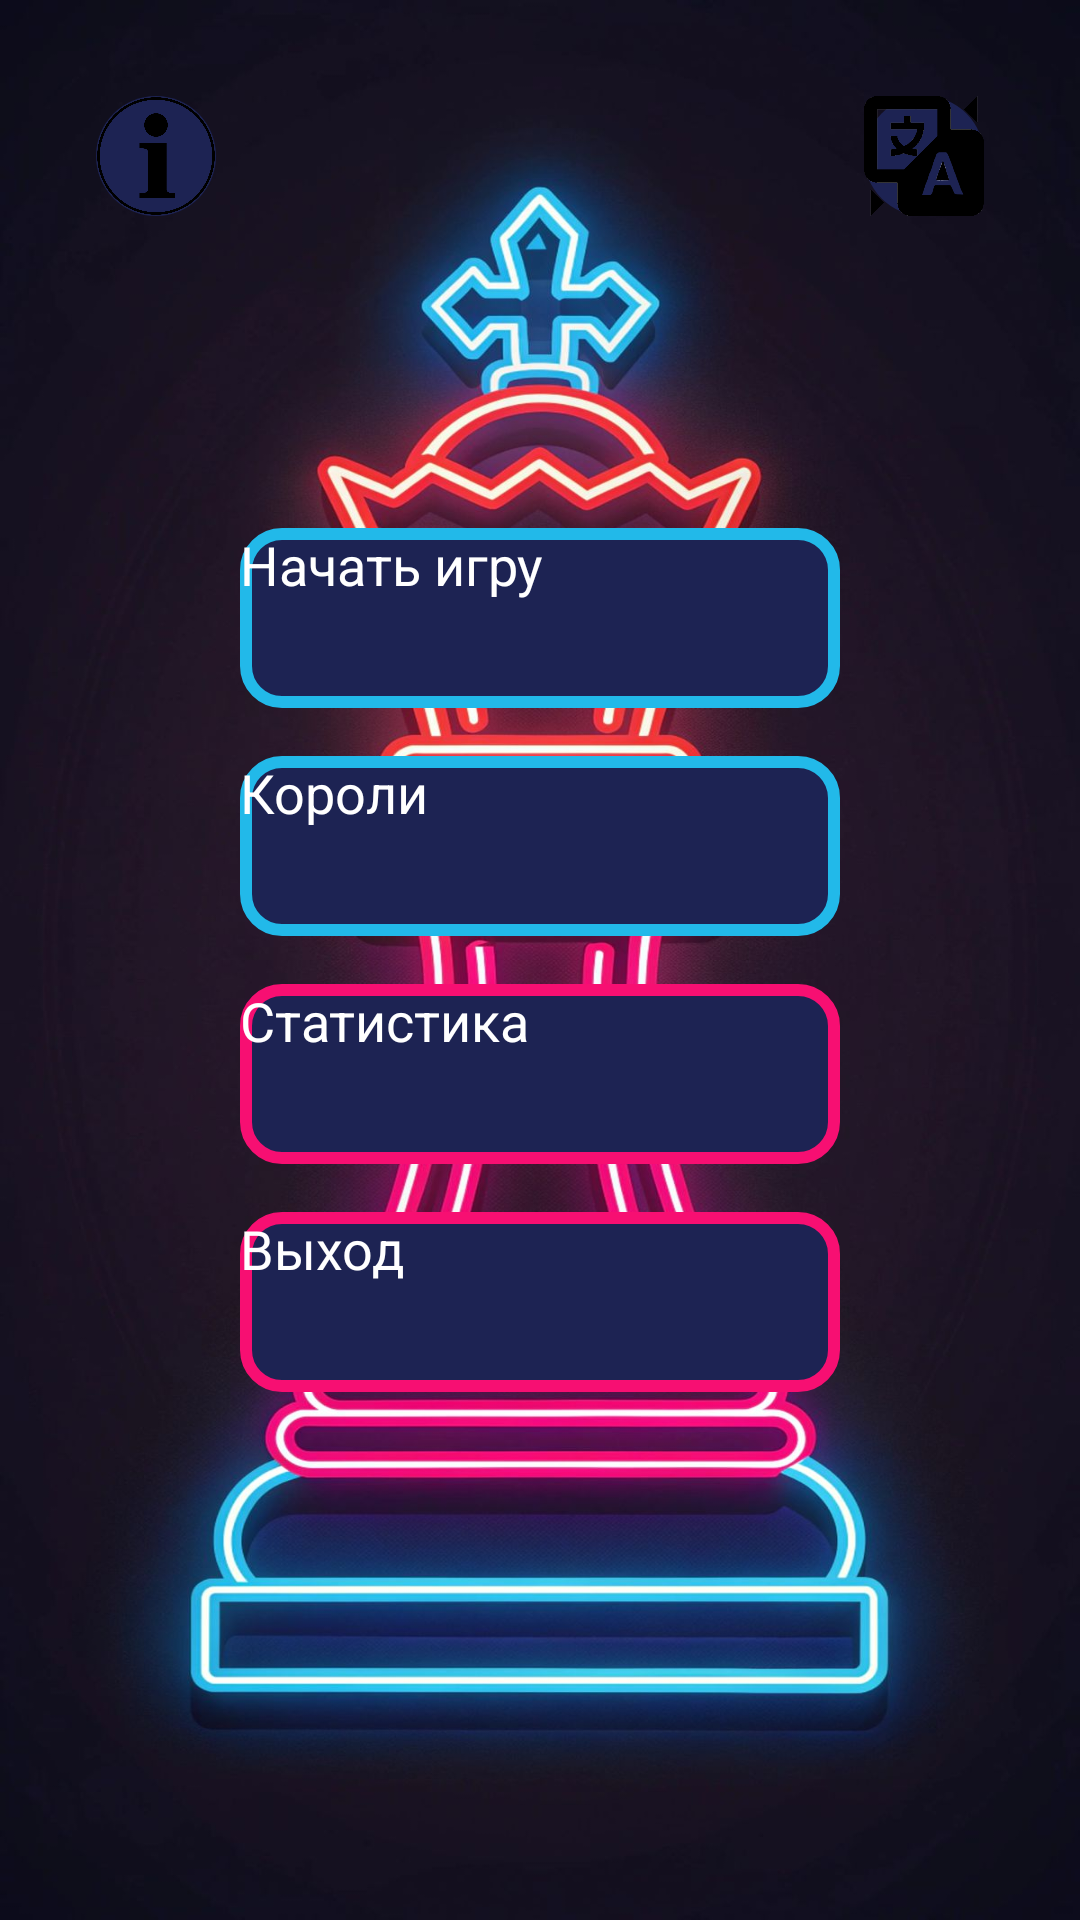

Icon bounding boxes for this 1080px x 1920px phone screenshot, format (x1, y1, x2, y2):
change language: (864, 96, 984, 216)
